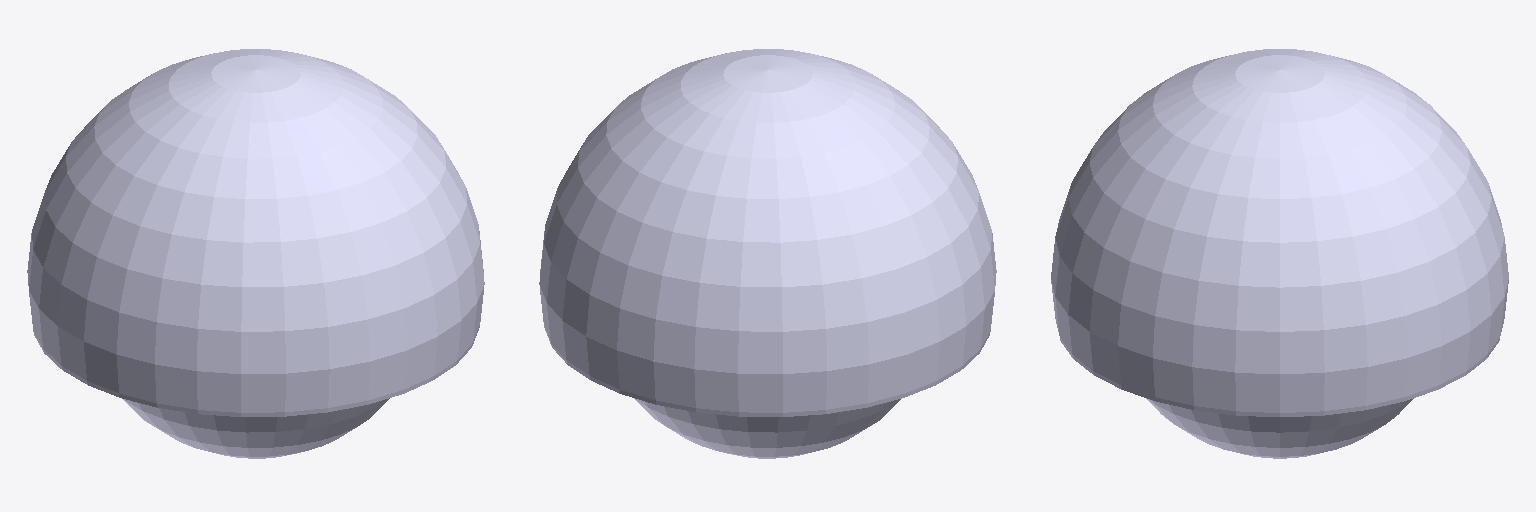
The model's file is robot_wheel.obj.
3 renders of one model, left to right at view 1: azimuth 30°, elevation 25°; view 2: azimuth 150°, elevation 25°; view 3: azimuth 270°, elevation 25°, orthographic.
Visible parts, largest first — view 1: Sphere04, Sphere05; view 2: Sphere04, Sphere05; view 3: Sphere04, Sphere05.
Part boxes in pixels (left/top/right/bottom): Sphere04: left=27, top=49, right=484, bottom=416; Sphere05: left=123, top=398, right=389, bottom=458; Sphere04: left=539, top=49, right=996, bottom=416; Sphere05: left=634, top=398, right=900, bottom=458; Sphere04: left=1051, top=49, right=1508, bottom=416; Sphere05: left=1146, top=398, right=1413, bottom=458.
Bounding box in the file's own units: 181 × 162 × 181.